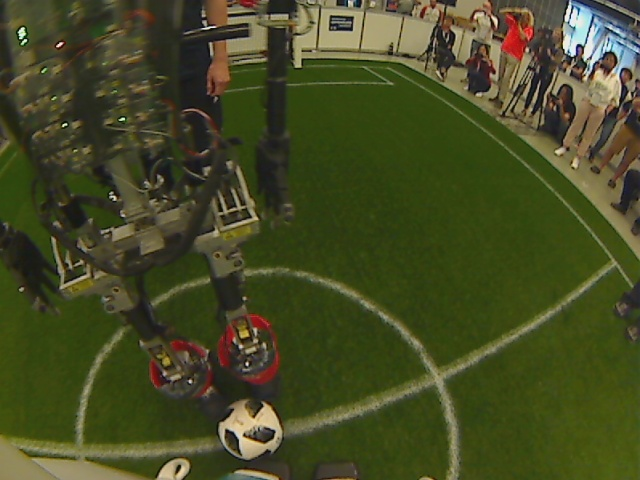ball: (213, 395, 288, 464)
